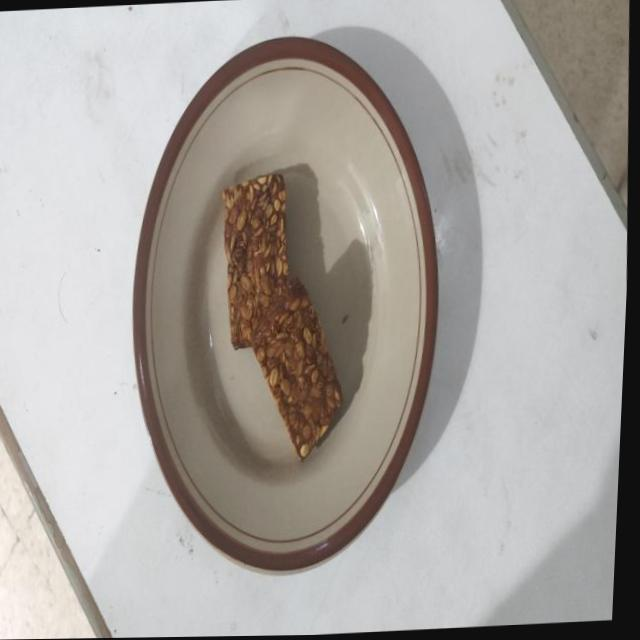tempe_goreng: (251, 274, 342, 460), (222, 174, 288, 348)
